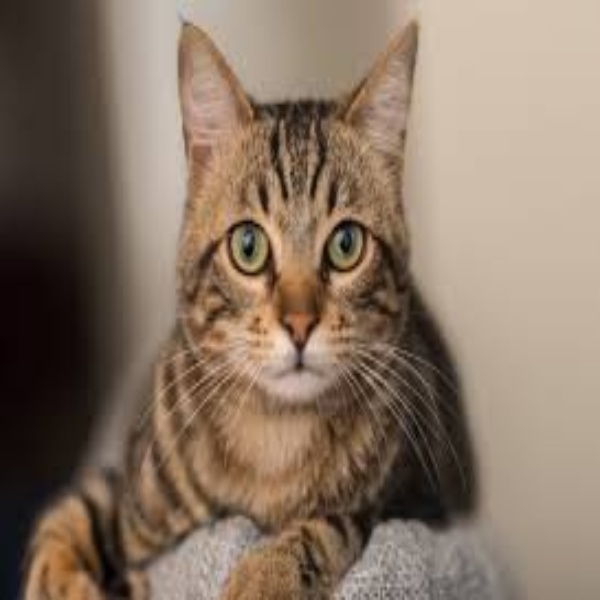cat: (17, 13, 479, 600)
